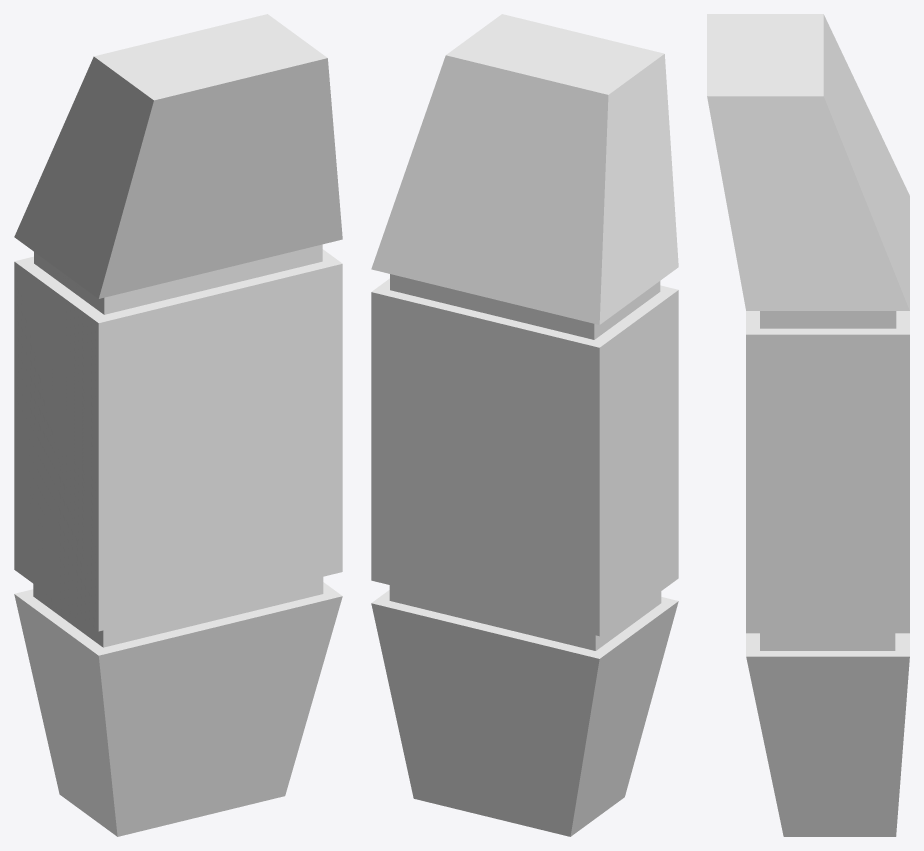
The model's file is merlindevice.glb.
3 views of the same model, side by side, from view 1: azimuth 30°, elevation 25°; view 2: azimuth 150°, elevation 25°; view 3: azimuth 270°, elevation 25° (orthographic). The views are drawn at different scales.
Visible parts, largest first — view 1: Merlin; view 2: Merlin; view 3: Merlin.
Boxes of the visible parts, box(x1,y1,x2,y2) form: Merlin: box(14, 14, 342, 836); Merlin: box(371, 14, 678, 836); Merlin: box(707, 14, 909, 836).
Size of the model in its own units: 0.4133 by 1.24 by 0.3072.
1 material, 1 textured.
